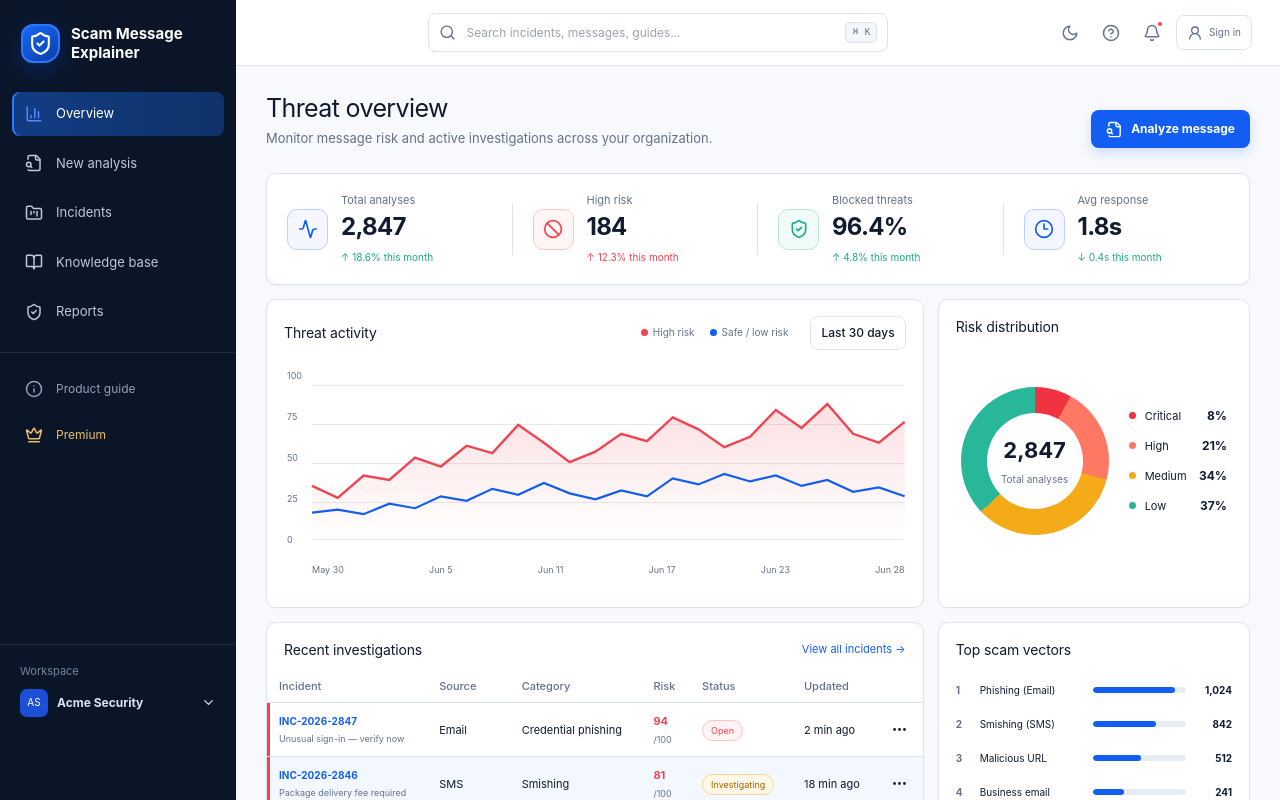
startup product workflows › navigates to the complete product guide
Click the button "Product guide" at (118, 388), box [12,368,224,408]
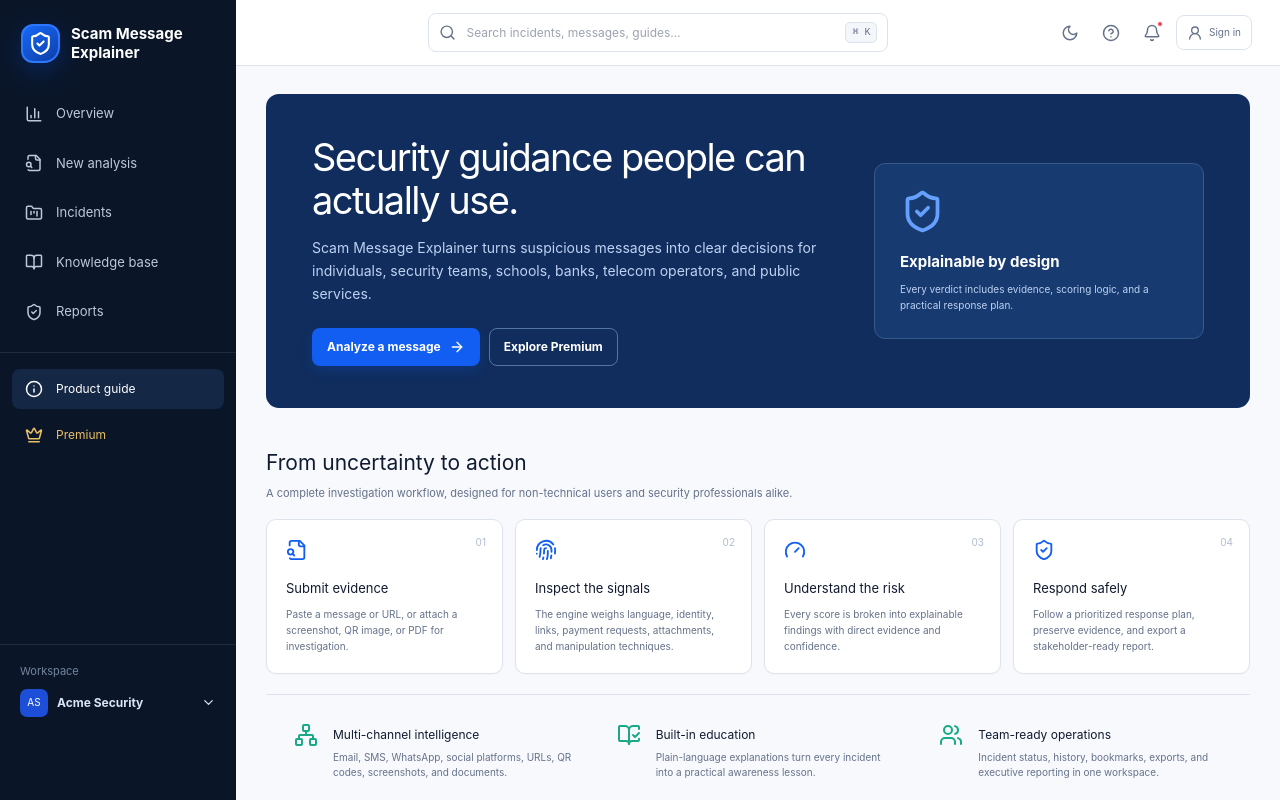
Now the heading "Security guidance people can actually use." is shown, box [312,136,819,221]
Now the heading "From uncertainty to action" is shown, box [266,450,527,475]
